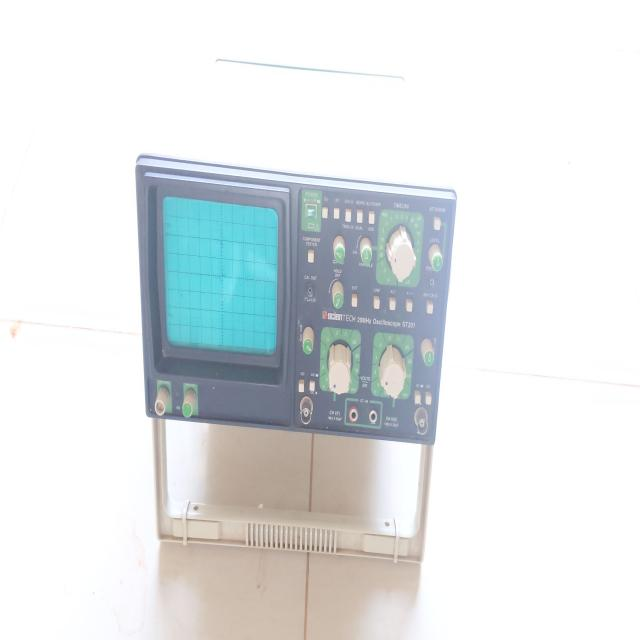Cathode Ray Oscilloscope: (125, 140, 462, 579)
